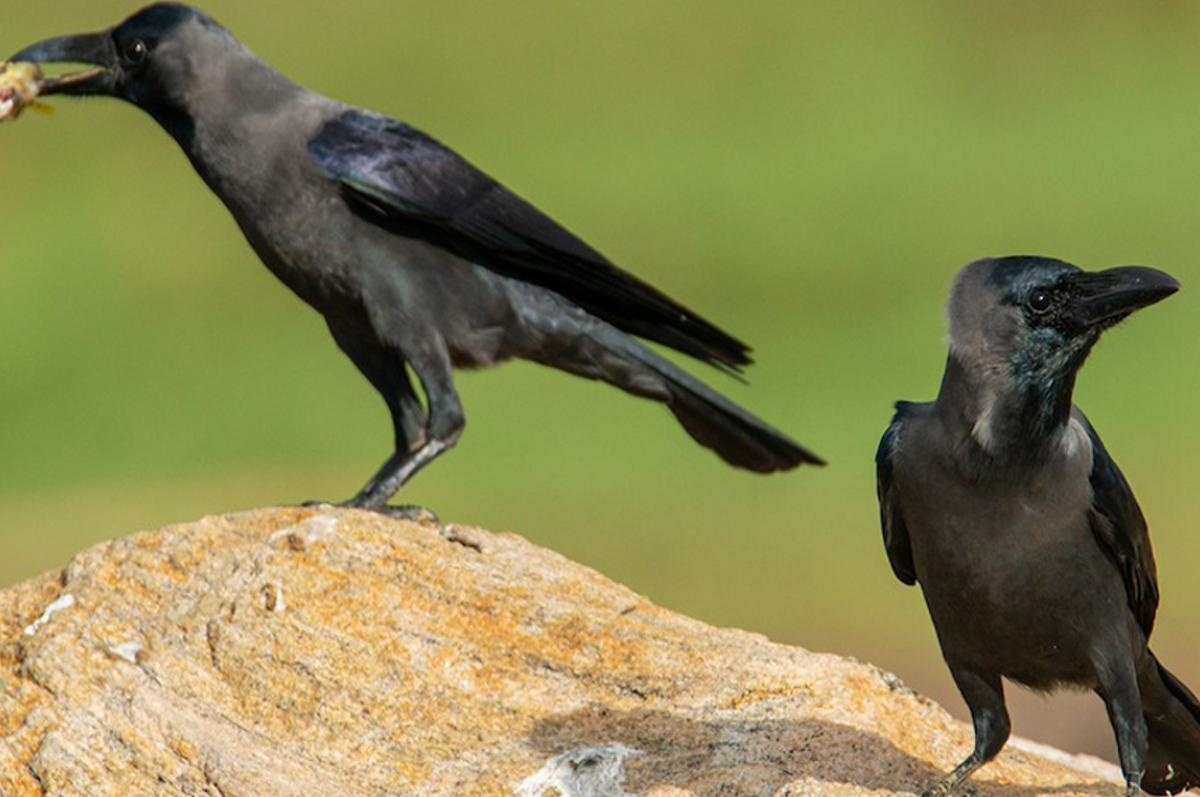crow: (1, 1, 814, 546), (840, 211, 1200, 797)
